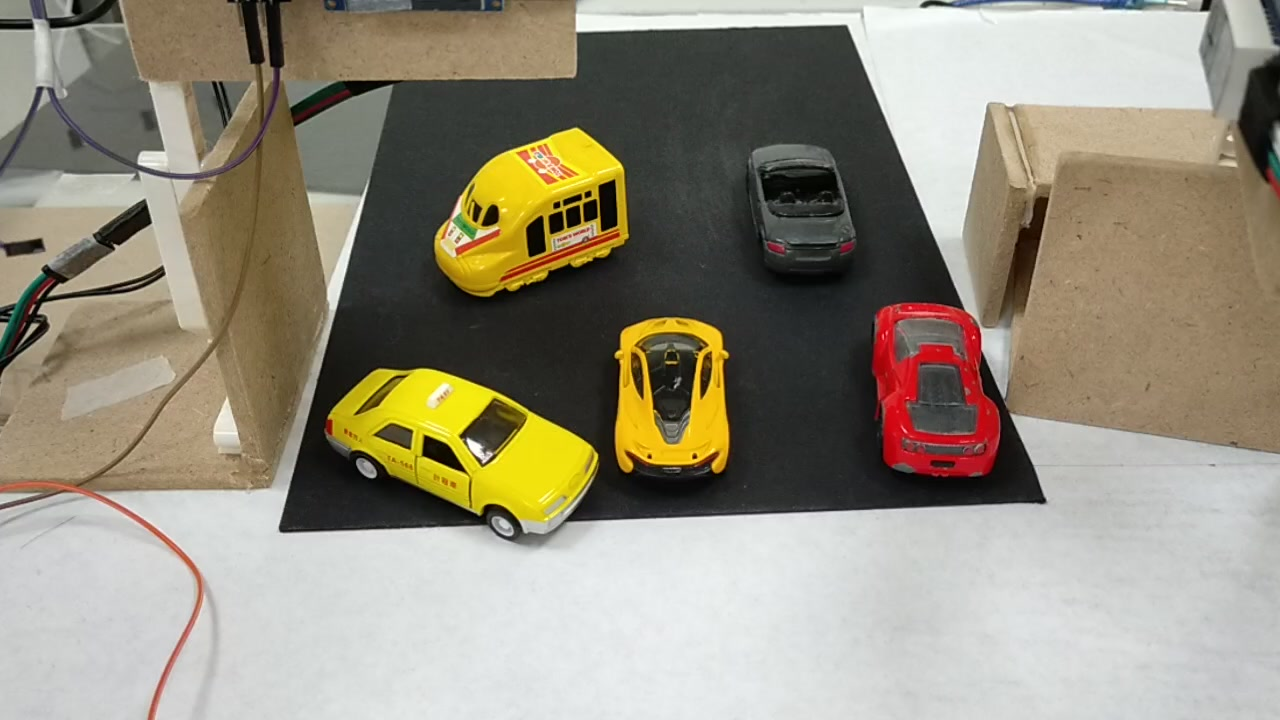car: (313, 369, 598, 540), (874, 299, 995, 479), (618, 319, 727, 484), (741, 144, 854, 271)
